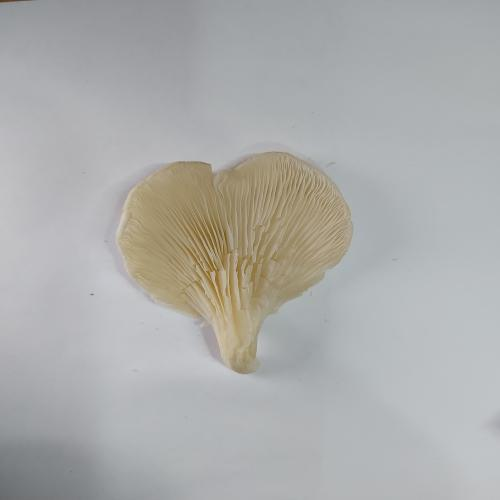Oyster Mushroom: (114, 150, 354, 375)
